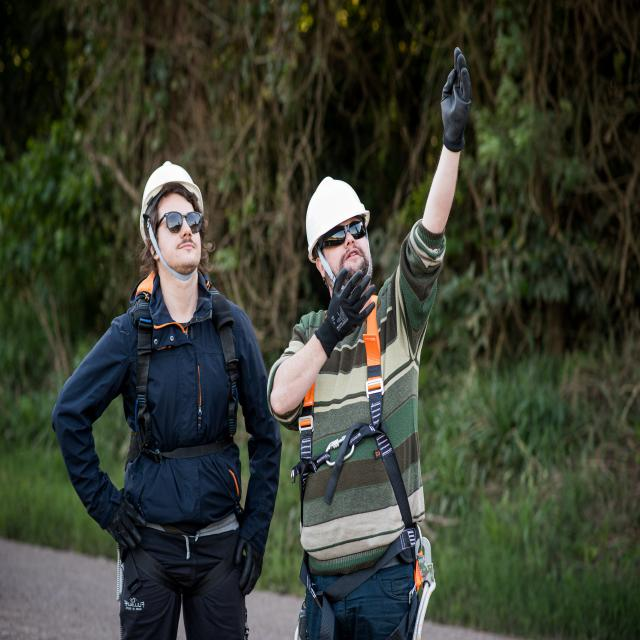capacete: (138, 160, 206, 250), (307, 174, 371, 266)
corda de vida: (288, 283, 437, 640), (111, 285, 246, 601)
luva: (309, 263, 380, 362), (100, 480, 152, 560), (438, 44, 473, 155), (230, 511, 268, 608)
